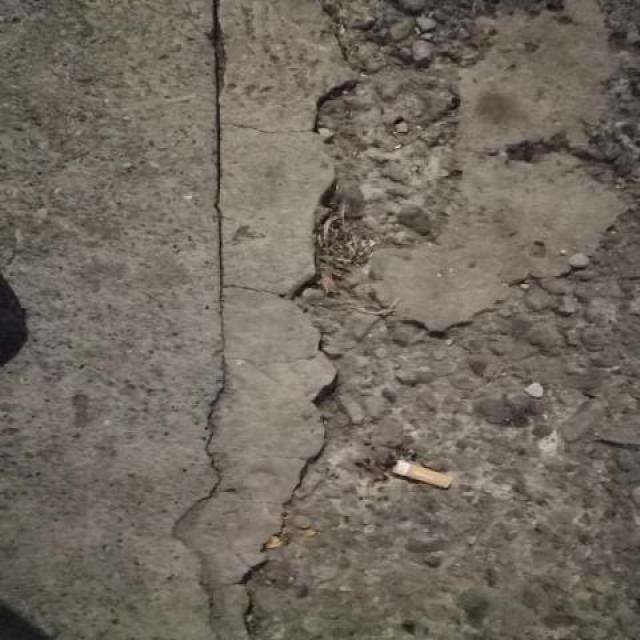non-organic waste: (384, 452, 457, 495)
